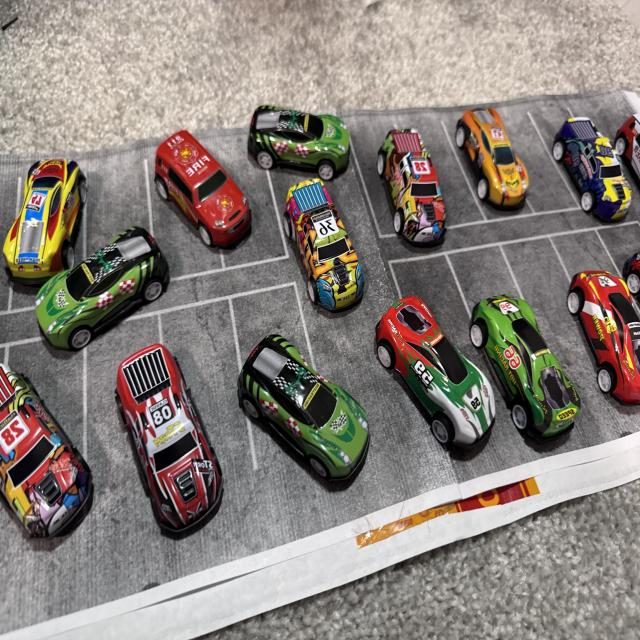Car: (83, 356, 259, 574), (220, 324, 356, 486), (472, 266, 592, 442), (369, 275, 496, 434), (0, 344, 94, 536), (292, 186, 379, 348), (5, 157, 113, 281), (450, 111, 540, 247), (559, 262, 640, 398), (62, 212, 154, 326), (156, 130, 251, 238), (472, 287, 542, 424), (239, 90, 353, 172), (548, 122, 614, 220), (374, 128, 427, 233)
